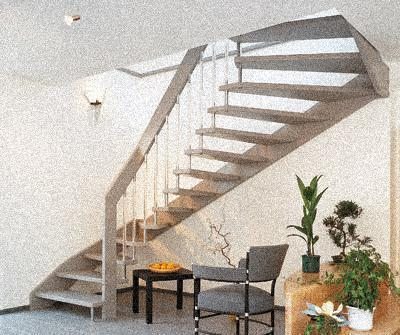Escaleras: (24, 24, 368, 312)
Matera: (335, 235, 387, 331), (292, 171, 327, 274), (323, 193, 362, 266)
